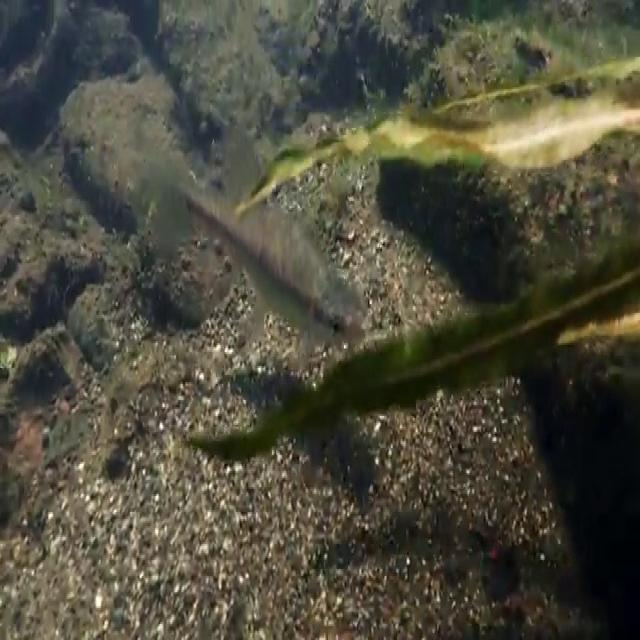Cakil Baligi: (188, 184, 366, 348)
